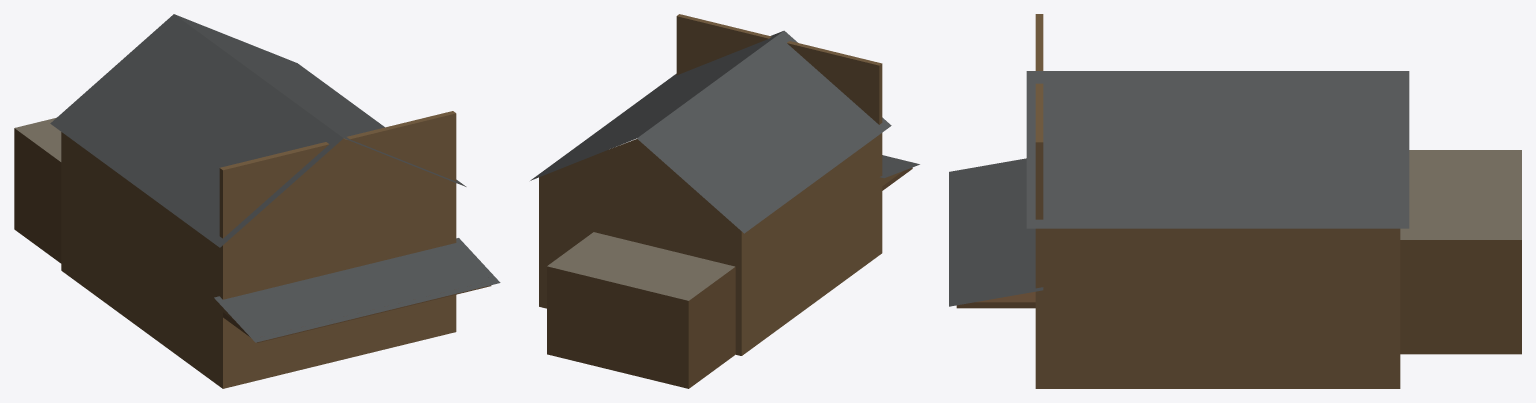
The model's file is cr-feed-store.towns-v1.lod2.glb.
3 views of the same model, side by side, from view 1: azimuth 30°, elevation 25°; view 2: azimuth 150°, elevation 25°; view 3: azimuth 270°, elevation 25° (orthographic). The views are drawn at different scales.
Visible parts, largest first — view 1: cr-feed-store; view 2: cr-feed-store; view 3: cr-feed-store.
Part boxes in pixels (left/top/right/bottom): cr-feed-store: left=14, top=14, right=500, bottom=388; cr-feed-store: left=530, top=14, right=919, bottom=388; cr-feed-store: left=949, top=14, right=1521, bottom=388.
Size of the model in its own units: 10.6 by 9.22 by 18.85.
